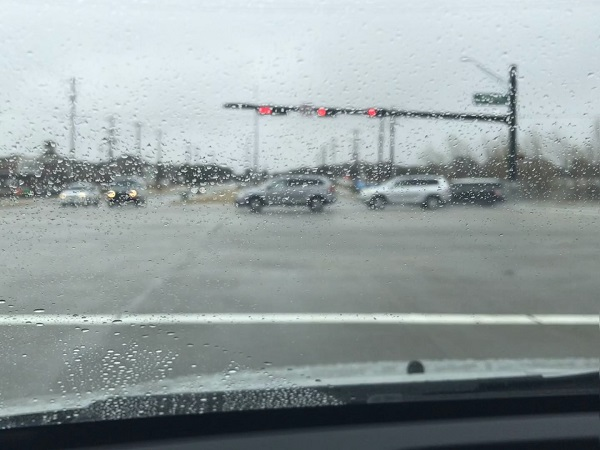car: (230, 173, 336, 211), (357, 171, 449, 205), (106, 175, 147, 206), (58, 178, 100, 203)
traffic light: (254, 104, 271, 115), (365, 107, 376, 118), (313, 107, 325, 116)
